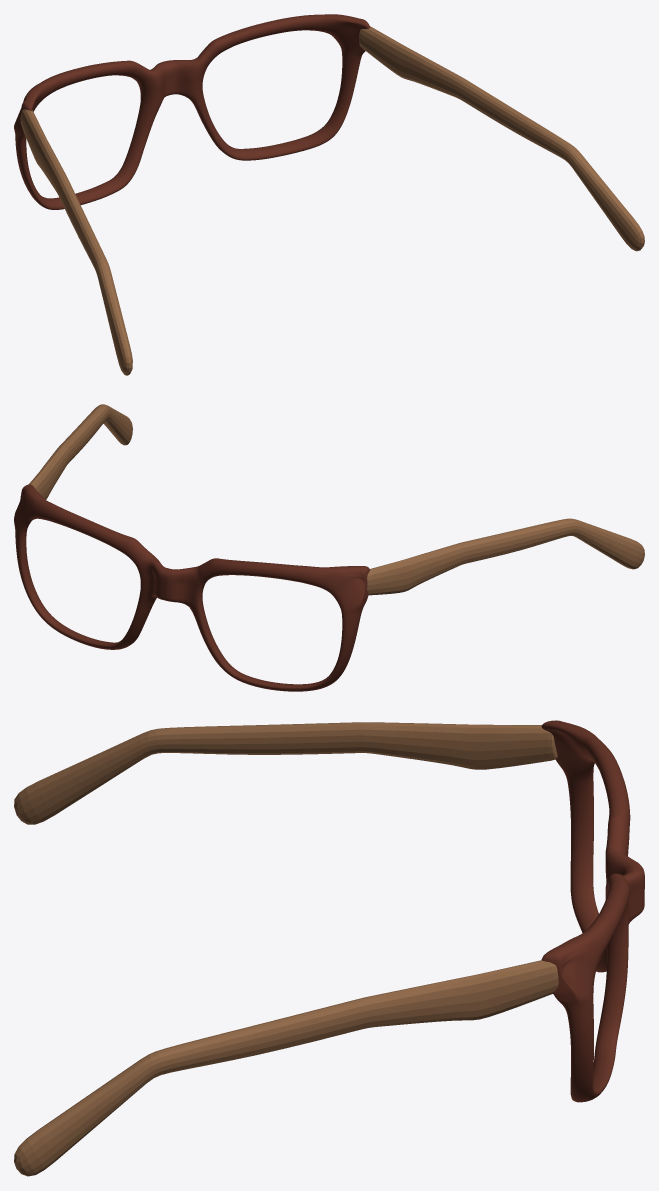
Rendered from victor_rectangular.fbx.
The picture shows the model from 3 angles, top to bottom: view 1: azimuth 30°, elevation 25°; view 2: azimuth 150°, elevation 25°; view 3: azimuth 270°, elevation 25°; orthographic projection. The views are drawn at different scales.
Visible parts, largest first — view 1: FRAME.000; view 2: FRAME.000; view 3: FRAME.000.
Part boxes in pixels (bbox=[...]): FRAME.000: bbox=[14, 14, 644, 375]; FRAME.000: bbox=[14, 404, 644, 691]; FRAME.000: bbox=[14, 720, 644, 1176].
Bounding box in the file's own units: 18.75 × 4.51 × 13.92.
